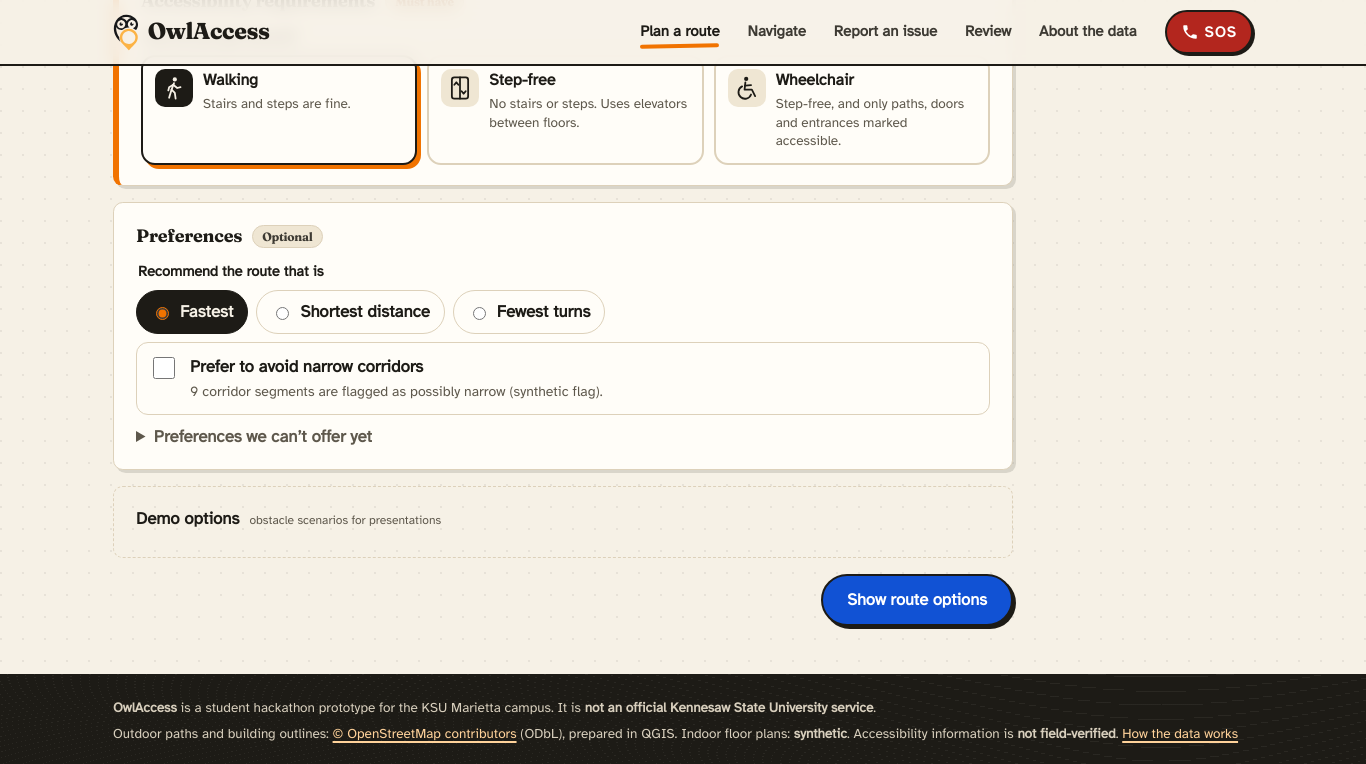
plan -> suggestions -> navigate (jsdom, not a real browser) › planning needs a start and a destination
(page scrolled)
Click the button "Show route options" at (917, 600), box [821,574,1013,626]
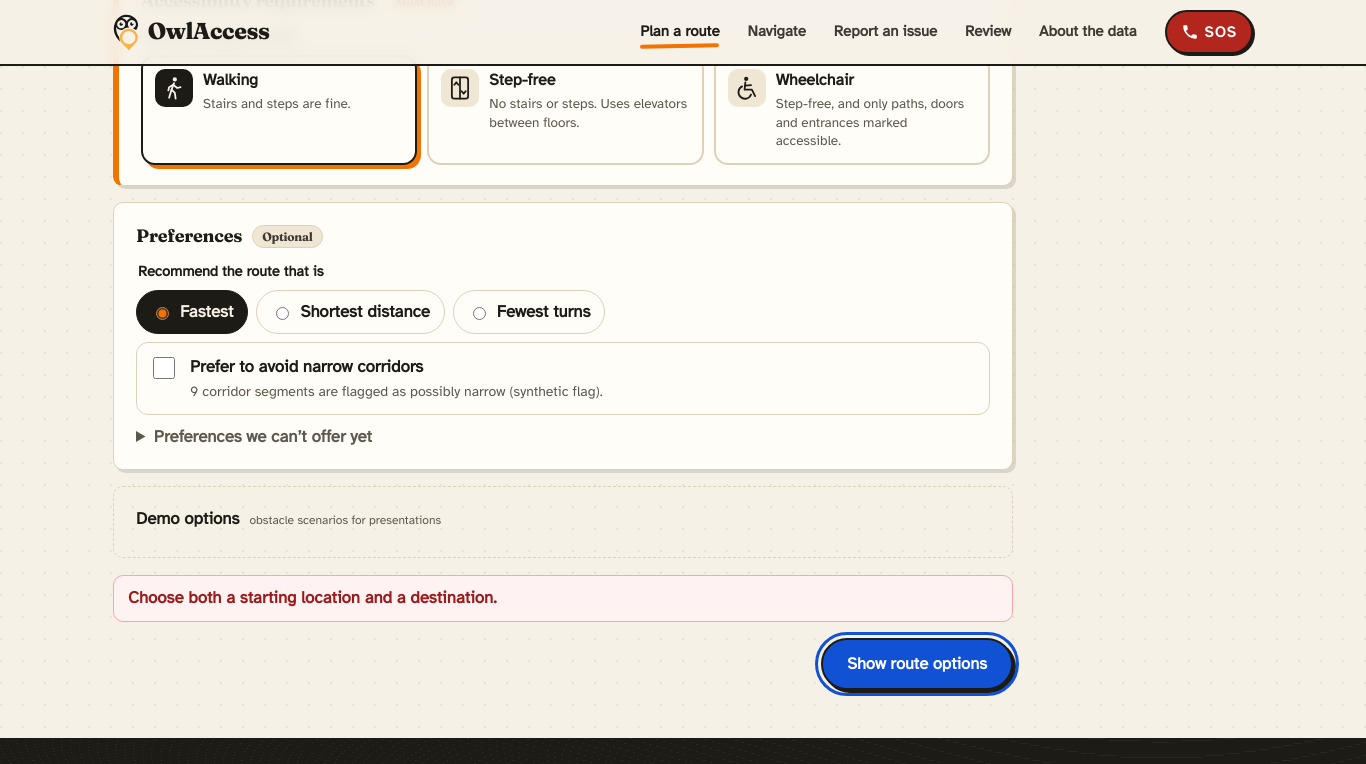
Expected: the message shows "Choose both", [128,587,497,608]
